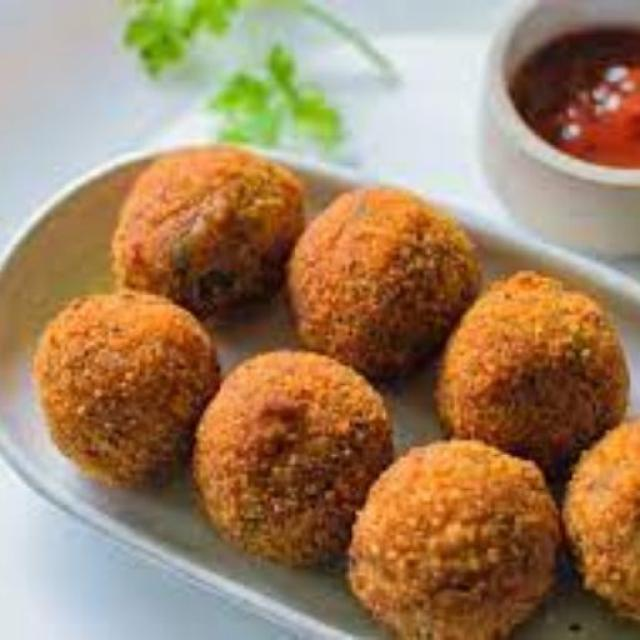Cutlet: (12, 286, 201, 485), (108, 140, 302, 331), (280, 177, 474, 363), (200, 350, 364, 570), (376, 436, 549, 640), (442, 273, 636, 436)
